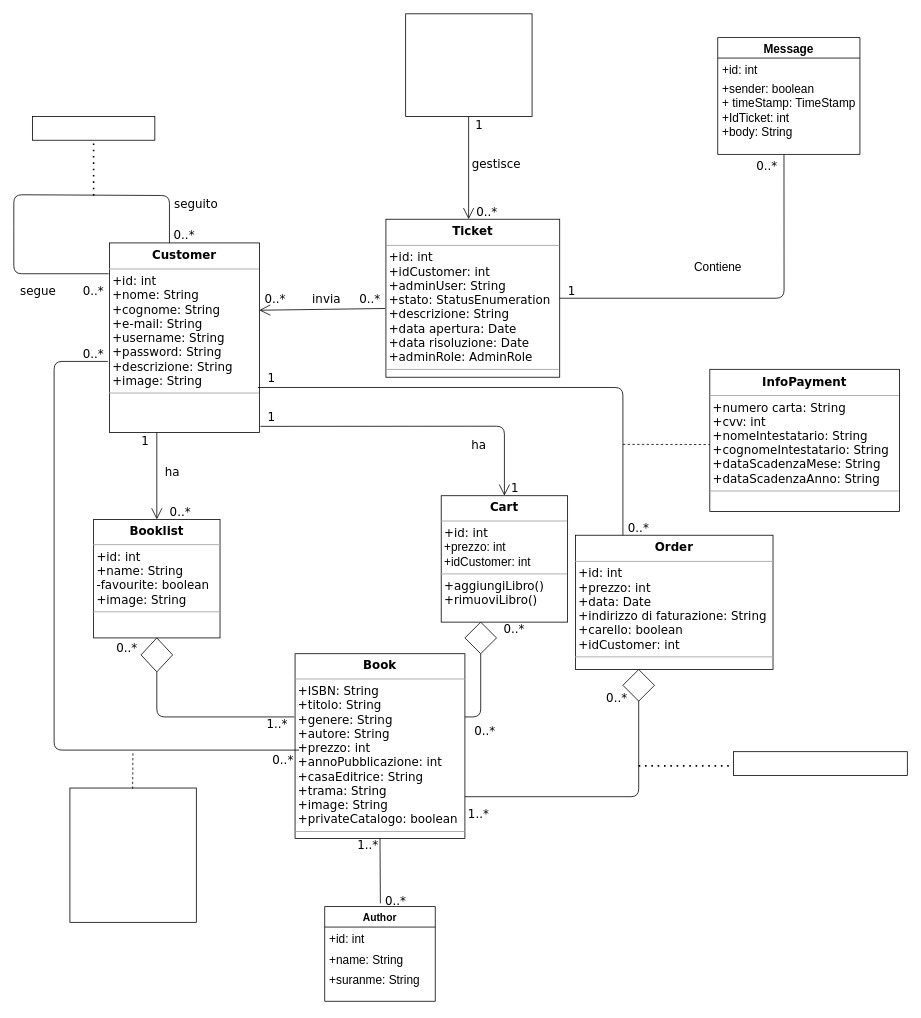
This 921x1018 diagram has some shape labels left out. Each missing label, with the centre of its shape:
"Admin +username: String +password: String +ruolo: AdminRole" belongs at point 468,65.
"Follow" belongs at point 93,128.
"OrderDetail" belongs at point 820,763.
"Review +id: int +testo: String +voto: String +data: data +ISBN: String" belongs at point 132,854.
